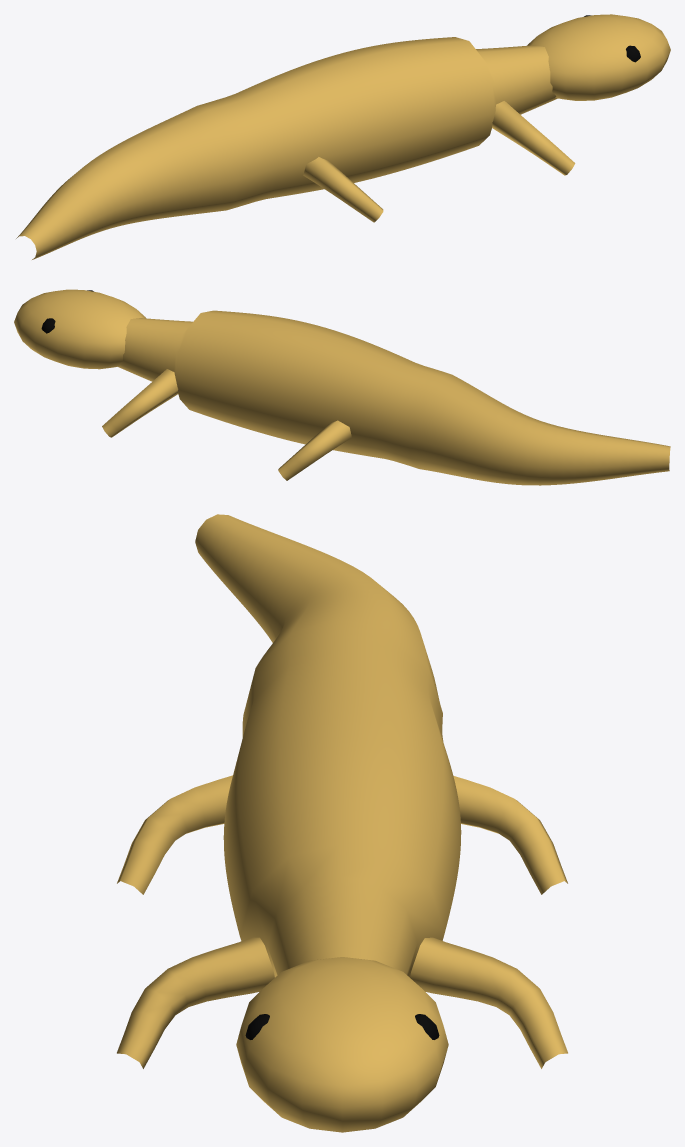
The model's file is animal_gecko.glb.
3 renders of one model, top to bottom at view 1: azimuth 30°, elevation 25°; view 2: azimuth 150°, elevation 25°; view 3: azimuth 270°, elevation 25°, orthographic. The views are drawn at different scales.
Visible parts, largest first — view 1: animal_gecko__gecko; view 2: animal_gecko__gecko; view 3: animal_gecko__gecko.
Boxes of the visible parts, x1=… form: animal_gecko__gecko: x1=16, y1=14, x2=670, y2=259; animal_gecko__gecko: x1=14, y1=289, x2=670, y2=485; animal_gecko__gecko: x1=117, y1=514, x2=567, y2=1132.
Bounding box in the file's own units: 0.2308 × 0.038 × 0.0723.
